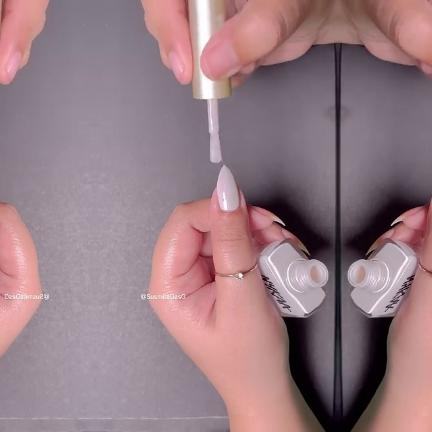Nail: (205, 41, 238, 79), (216, 164, 239, 211), (281, 229, 309, 255), (365, 229, 393, 255), (251, 206, 284, 226), (390, 206, 423, 226), (167, 51, 184, 82), (4, 51, 21, 82)
